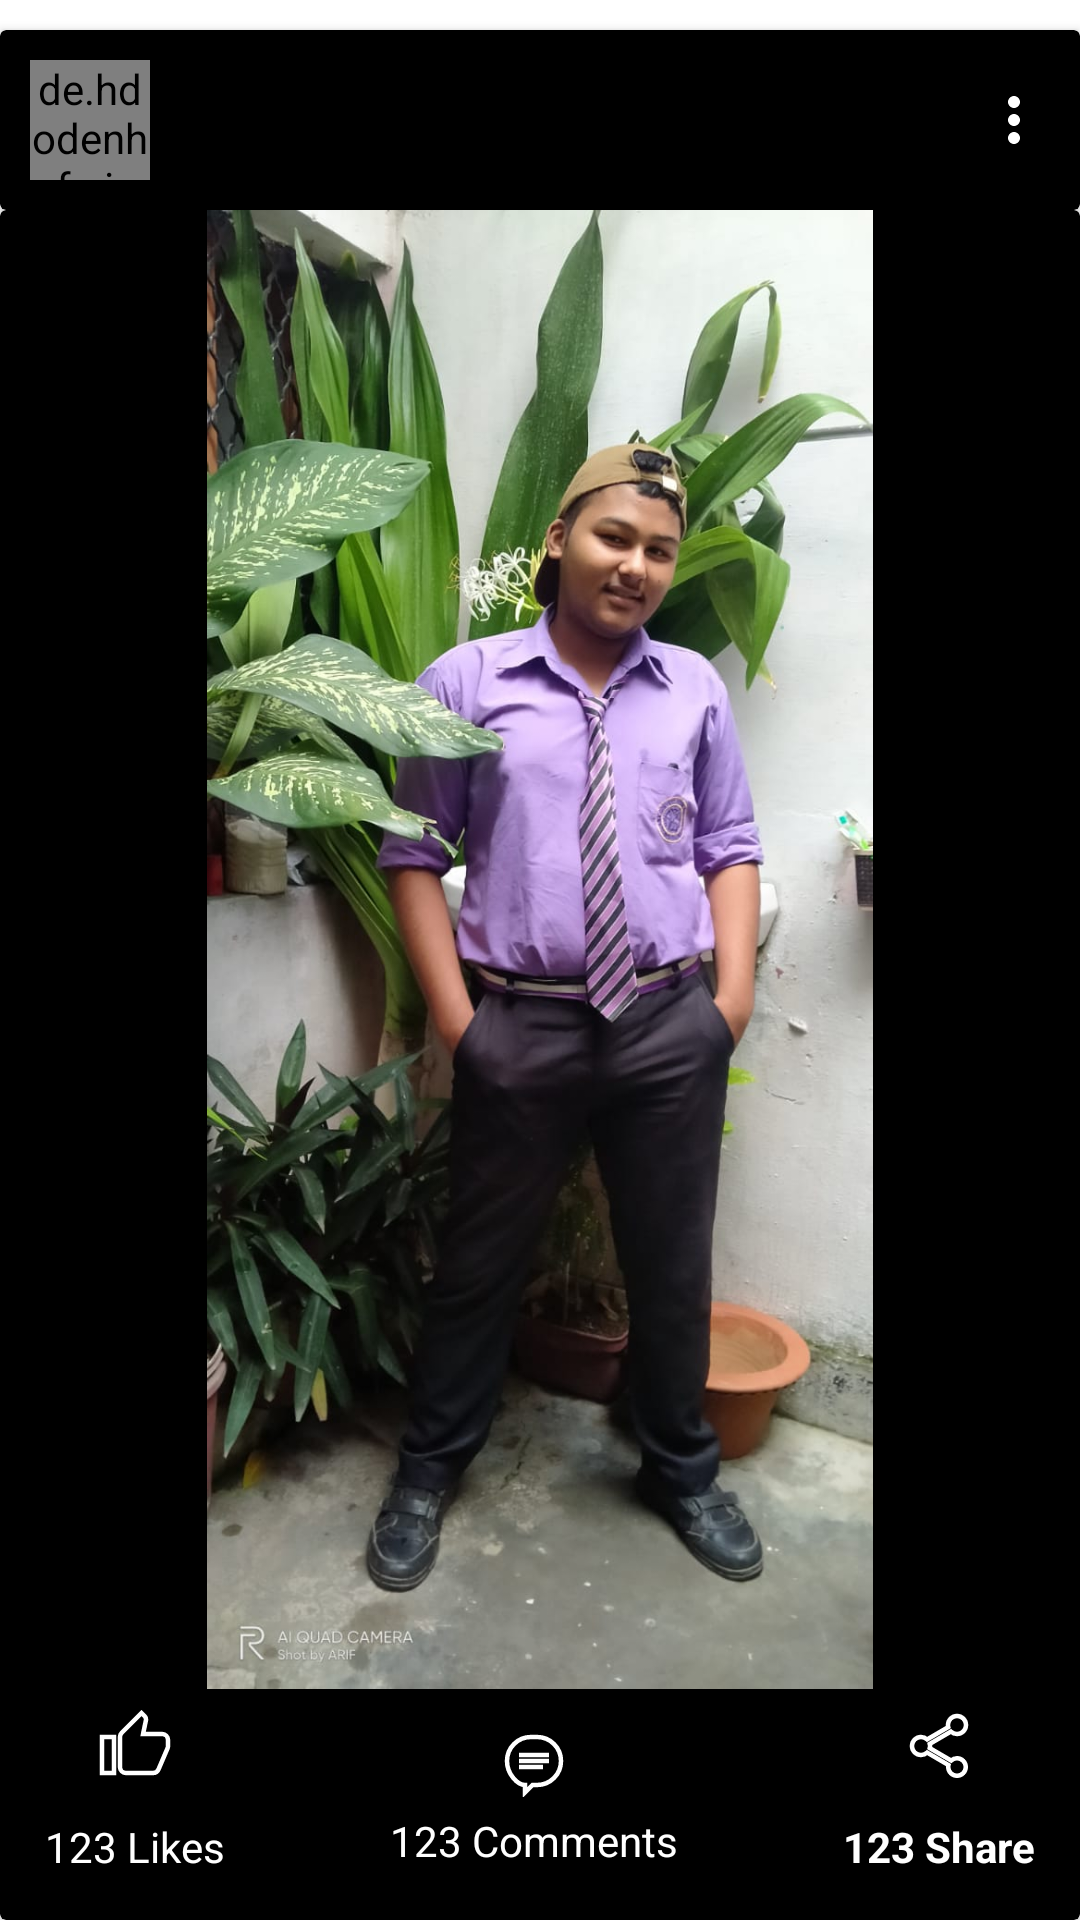

Screen size 1080*1920. Icon name, then its box in pixels as Rect(x1, y1, x2, y2):
more: Rect(1008, 96, 1020, 144)
